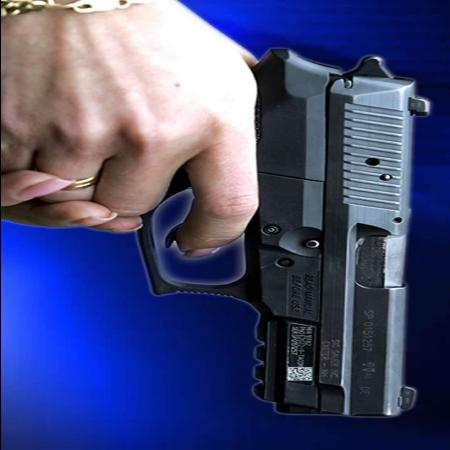Pistol: (133, 38, 429, 416)
